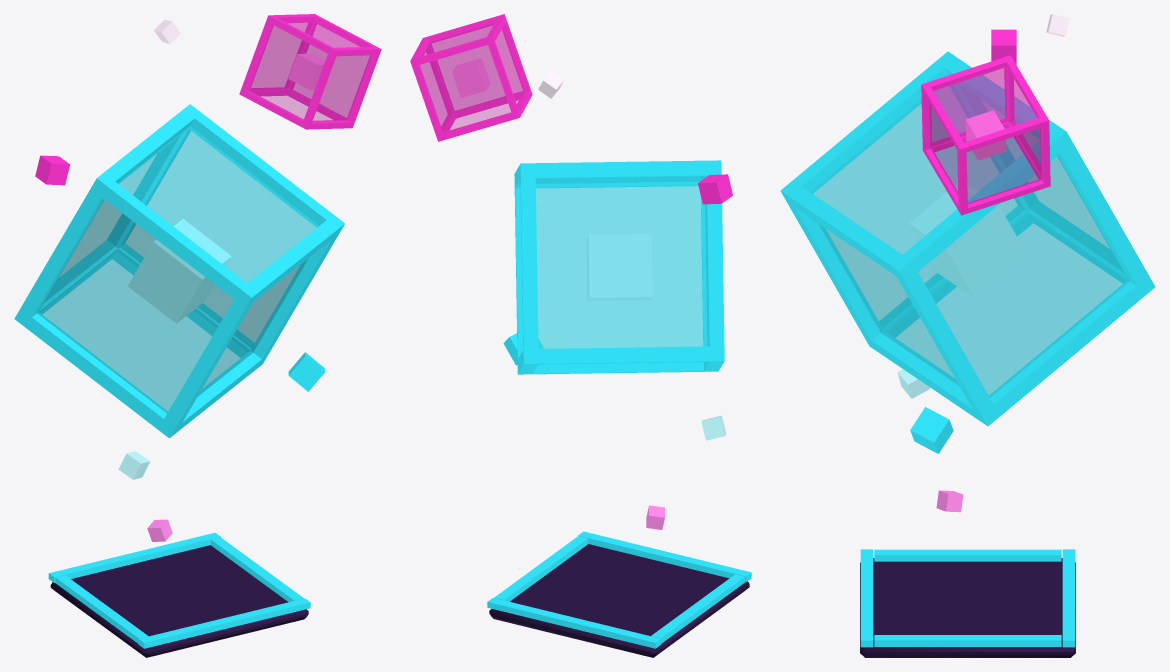
The picture shows the model from 3 angles, left to right: view 1: azimuth 30°, elevation 25°; view 2: azimuth 150°, elevation 25°; view 3: azimuth 270°, elevation 25°; orthographic projection. The views are drawn at different scales.
Visible parts, largest first — view 1: anim_spin_big, me_cube_c, anim_bob_small, fx_glow_pad, fx_glow_bits; view 2: anim_spin_big, me_cube_c, anim_bob_small, fx_glow_pad, fx_glow_bits; view 3: anim_spin_big, me_cube_c, anim_bob_small, fx_glow_pad, fx_glow_bits.
Boxes of the visible parts, left/top/right/bottom form: anim_spin_big: left=14, top=104, right=344, bottom=438; me_cube_c: left=50, top=545, right=308, bottom=657; anim_bob_small: left=239, top=14, right=381, bottom=129; fx_glow_pad: left=48, top=532, right=310, bottom=648; fx_glow_bits: left=35, top=20, right=324, bottom=541; anim_spin_big: left=514, top=160, right=724, bottom=374; me_cube_c: left=489, top=544, right=749, bottom=657; anim_bob_small: left=410, top=14, right=532, bottom=141; fx_glow_pad: left=487, top=531, right=751, bottom=648; fx_glow_bits: left=503, top=71, right=732, bottom=529; anim_spin_big: left=780, top=51, right=1155, bottom=426; me_cube_c: left=860, top=558, right=1075, bottom=657; anim_bob_small: left=921, top=55, right=1050, bottom=215; fx_glow_pad: left=860, top=549, right=1075, bottom=647; fx_glow_bits: left=897, top=14, right=1069, bottom=512.
Size of the model in its own units: 2.4 by 3.79 by 2.08.
Materials: 3 (3 with a texture image).
